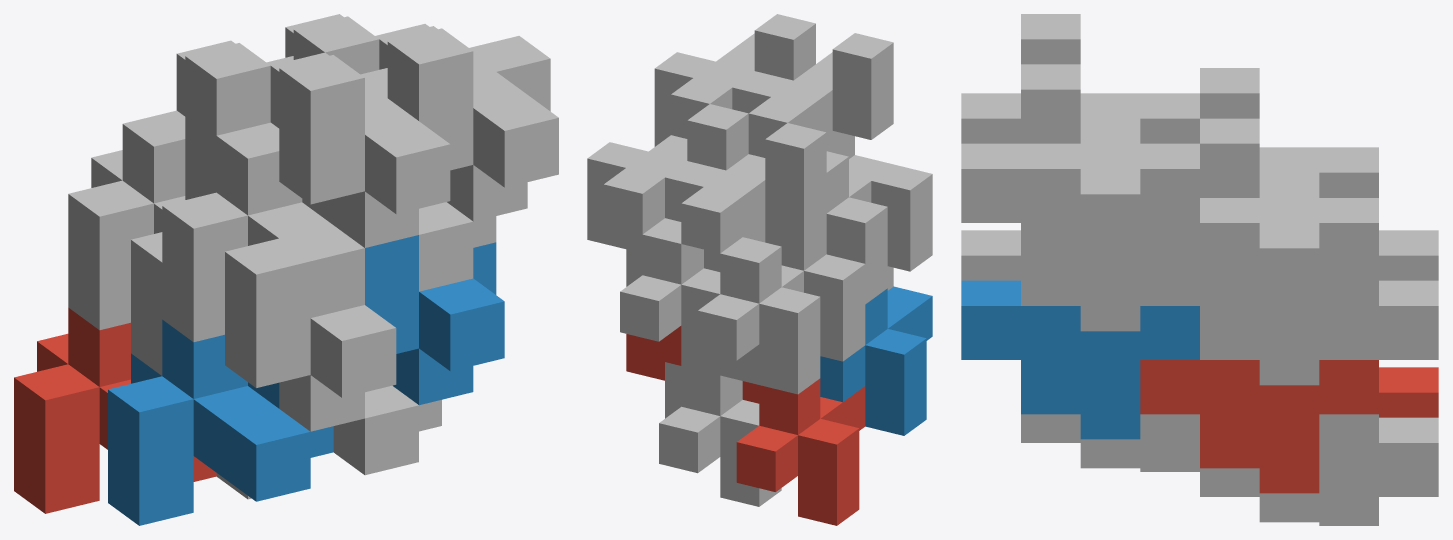
The model's file is tiling.obj.
The picture shows the model from 3 angles, left to right: view 1: azimuth 30°, elevation 25°; view 2: azimuth 150°, elevation 25°; view 3: azimuth 270°, elevation 25°; orthographic projection. The views are drawn at different scales.
Visible parts, largest first — view 1: copy_1_domain_2, copy_2_domain_4, copy_2_domain_8, copy_1_domain_4, copy_2_domain_2, copy_1_domain_1, copy_1_domain_3, copy_2_domain_6, copy_2_domain_3, copy_1_domain_6, copy_1_domain_8, copy_2_domain_1 (+1 smaller); view 2: copy_1_domain_3, copy_2_domain_3, copy_1_domain_1, copy_2_domain_4, copy_2_domain_7, copy_1_domain_2, copy_1_domain_7, copy_2_domain_8, copy_1_domain_5, copy_1_domain_4, copy_2_domain_1, copy_2_domain_2 (+1 smaller); view 3: copy_2_domain_8, copy_2_domain_7, copy_2_domain_6, copy_2_domain_5, copy_1_domain_5, copy_1_domain_7, copy_2_domain_4, copy_2_domain_3, copy_1_domain_6, copy_1_domain_8, copy_1_domain_1, copy_1_domain_3 (+1 smaller).
Boxes of the visible parts, x1=… form: copy_1_domain_2: x1=108, y1=319, x2=333, y2=525; copy_2_domain_4: x1=270, y1=52, x2=450, y2=247; copy_2_domain_8: x1=379, y1=26, x2=558, y2=221; copy_1_domain_4: x1=162, y1=122, x2=364, y2=342; copy_2_domain_2: x1=225, y1=238, x2=396, y2=431; copy_1_domain_1: x1=14, y1=307, x2=216, y2=513; copy_1_domain_3: x1=68, y1=110, x2=185, y2=330; copy_2_domain_6: x1=365, y1=235, x2=504, y2=405; copy_2_domain_3: x1=176, y1=40, x2=293, y2=192; copy_1_domain_6: x1=216, y1=385, x2=441, y2=499; copy_1_domain_8: x1=419, y1=202, x2=496, y2=291; copy_2_domain_1: x1=131, y1=232, x2=162, y2=375; copy_1_domain_3: x1=698, y1=221, x2=820, y2=394; copy_2_domain_3: x1=665, y1=123, x2=826, y2=253; copy_1_domain_1: x1=736, y1=378, x2=865, y2=525; copy_2_domain_4: x1=732, y1=33, x2=893, y2=158; copy_2_domain_7: x1=587, y1=104, x2=748, y2=248; copy_1_domain_2: x1=820, y1=286, x2=932, y2=435; copy_1_domain_7: x1=620, y1=218, x2=720, y2=375; copy_2_domain_8: x1=654, y1=14, x2=815, y2=146; copy_1_domain_5: x1=659, y1=362, x2=781, y2=506; copy_1_domain_4: x1=765, y1=131, x2=893, y2=304; copy_2_domain_1: x1=720, y1=254, x2=865, y2=384; copy_2_domain_2: x1=871, y1=164, x2=932, y2=290; copy_2_domain_8: x1=961, y1=64, x2=1199, y2=302; copy_2_domain_7: x1=1140, y1=118, x2=1378, y2=356; copy_2_domain_6: x1=961, y1=280, x2=1199, y2=439; copy_2_domain_5: x1=1140, y1=360, x2=1378, y2=493; copy_1_domain_5: x1=1200, y1=414, x2=1438, y2=525; copy_1_domain_7: x1=1200, y1=277, x2=1438, y2=385; copy_2_domain_4: x1=961, y1=14, x2=1199, y2=143; copy_2_domain_3: x1=1200, y1=68, x2=1378, y2=197; copy_1_domain_6: x1=1021, y1=414, x2=1199, y2=471; copy_1_domain_8: x1=1021, y1=277, x2=1199, y2=331; copy_1_domain_1: x1=1379, y1=367, x2=1438, y2=417; copy_1_domain_3: x1=1379, y1=230, x2=1438, y2=280.
Size of the model in its own units: 7 by 9 by 8.
